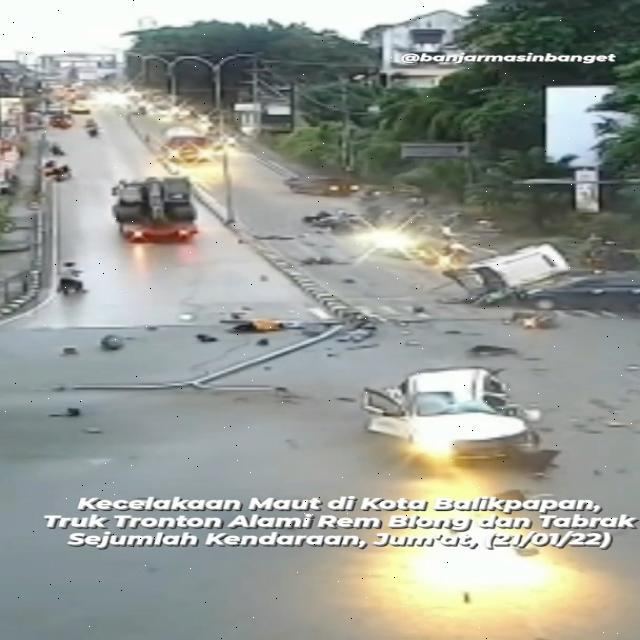accident: (348, 361, 584, 479), (421, 223, 640, 313)
